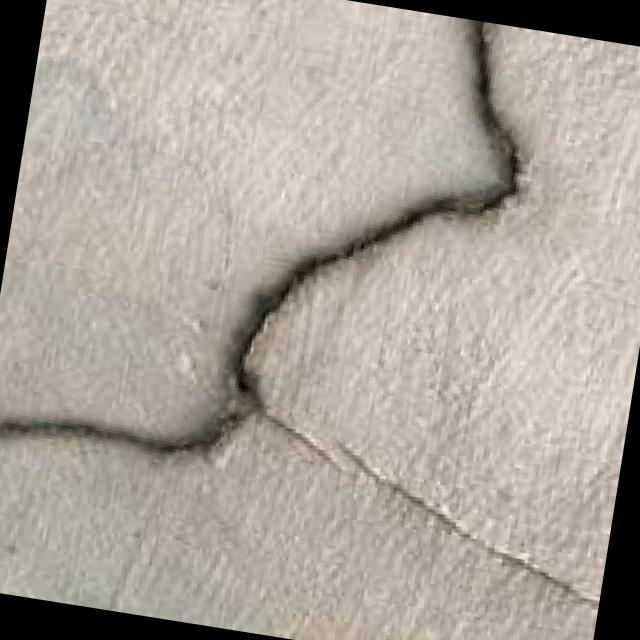crack: (0, 0, 530, 579)
